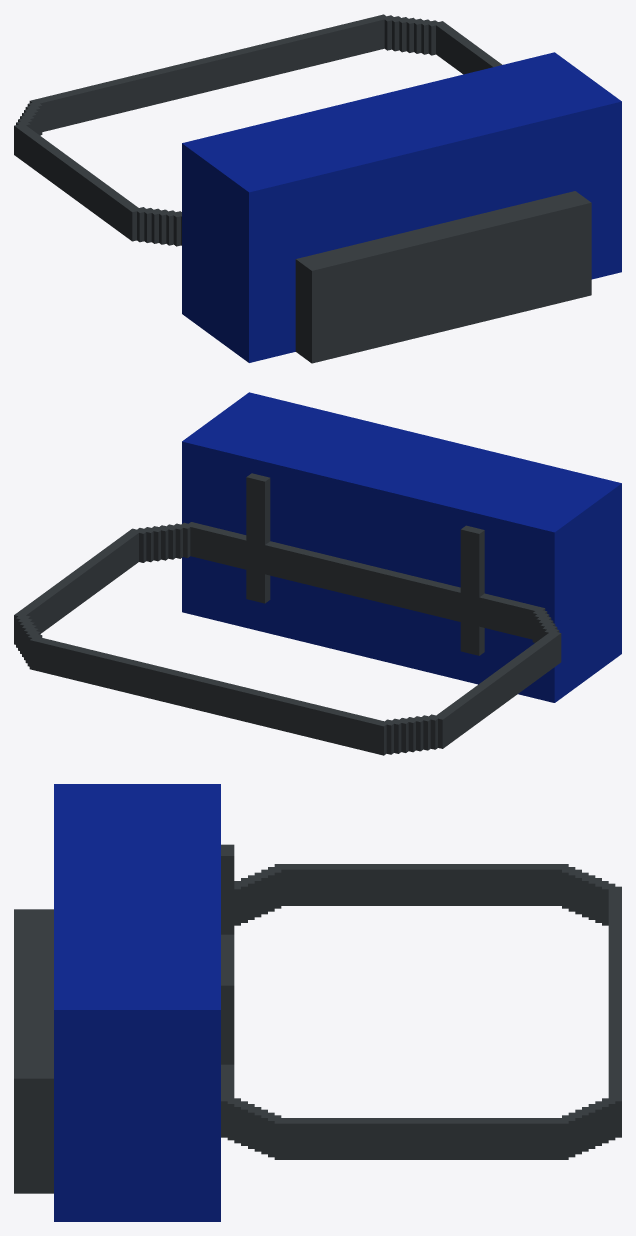
File: fanny_pack_worn.glb
3 views of the same model, one above another, from view 1: azimuth 30°, elevation 25°; view 2: azimuth 150°, elevation 25°; view 3: azimuth 270°, elevation 25° (orthographic). The views are drawn at different scales.
Parts seen in each view (by area): view 1: bag:bag, belt:belt; view 2: bag:bag, belt:belt; view 3: bag:bag, belt:belt.
Boxes of the visible parts, x1,y1,x2,y2 form: bag:bag: [182, 52, 621, 363]; belt:belt: [14, 14, 502, 246]; bag:bag: [182, 392, 621, 702]; belt:belt: [14, 522, 561, 755]; bag:bag: [14, 784, 234, 1221]; belt:belt: [221, 864, 621, 1159].
Bounding box in the file's own units: 0.368 × 0.14 × 0.364.
